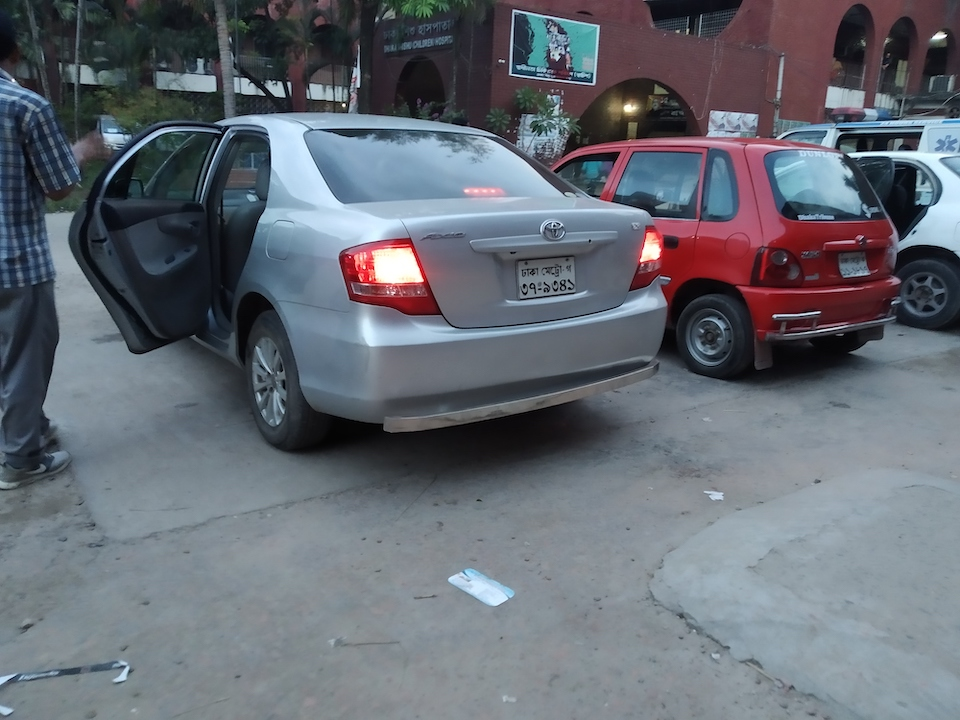registration_plate: (515, 255, 577, 302), (837, 251, 871, 278)
